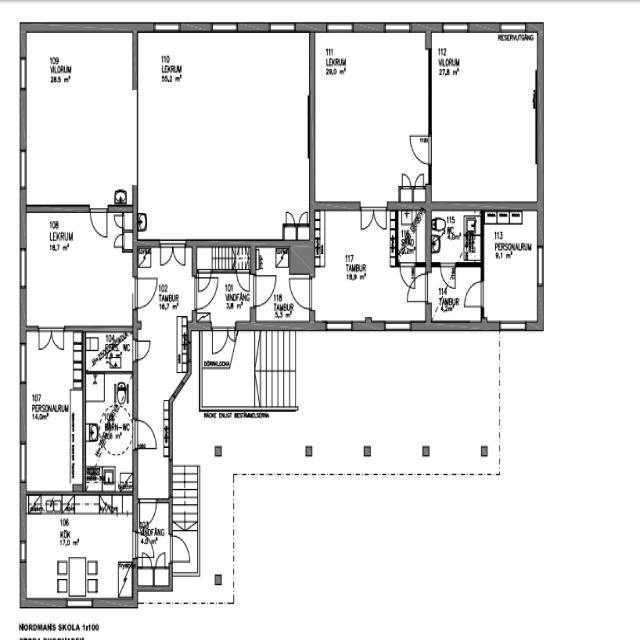door: (136, 501, 170, 568), (287, 272, 315, 312), (132, 274, 160, 310), (358, 201, 389, 233), (252, 271, 278, 309), (208, 324, 234, 361), (407, 132, 433, 168), (169, 531, 194, 567), (134, 417, 158, 452), (406, 269, 430, 304), (36, 325, 65, 353), (158, 240, 184, 270), (88, 205, 110, 240), (462, 278, 485, 309), (136, 497, 158, 528), (398, 260, 416, 289), (438, 261, 456, 290), (196, 268, 214, 296), (133, 338, 153, 361), (235, 269, 252, 294), (145, 551, 168, 569), (138, 550, 156, 569), (112, 228, 125, 252), (399, 171, 413, 190), (412, 171, 426, 189)
window: (17, 146, 30, 195), (498, 20, 527, 38), (18, 245, 29, 292), (535, 246, 546, 290), (382, 19, 412, 35), (17, 54, 29, 94), (268, 18, 297, 34), (210, 19, 239, 34), (153, 19, 181, 34), (325, 20, 355, 34), (441, 20, 470, 34), (132, 366, 140, 414), (19, 540, 27, 564)
zone: (134, 27, 310, 242), (22, 28, 138, 209), (311, 27, 427, 206), (430, 30, 539, 207), (22, 208, 136, 330), (24, 495, 135, 602), (314, 205, 406, 323), (23, 327, 82, 496), (482, 209, 540, 326), (84, 370, 135, 490), (134, 244, 196, 330), (252, 248, 311, 320), (194, 267, 253, 328), (429, 264, 483, 321), (429, 208, 482, 264), (136, 502, 170, 570), (83, 329, 134, 372), (398, 203, 427, 263), (138, 568, 170, 588)
